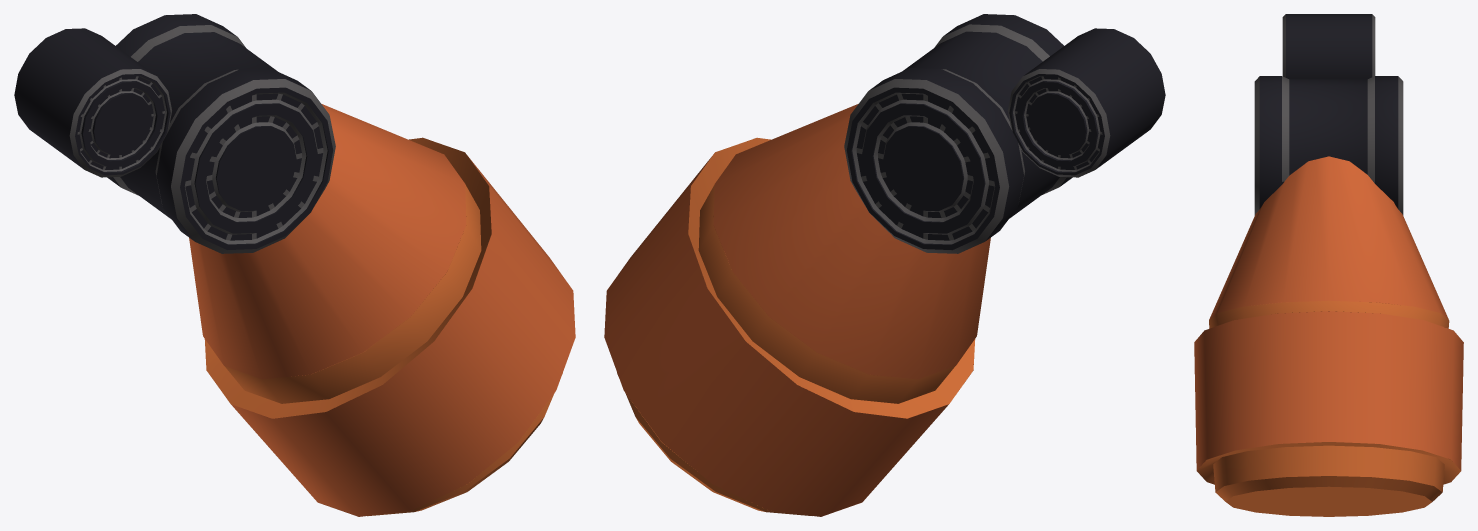
File: l_shoulder.glb
3 renders of one model, left to right at view 1: azimuth 30°, elevation 25°; view 2: azimuth 150°, elevation 25°; view 3: azimuth 270°, elevation 25°, orthographic. The views are drawn at different scales.
Visible parts, largest first — view 1: l_shoulder; view 2: l_shoulder; view 3: l_shoulder.
Part boxes in pixels (x1=…): l_shoulder: x1=14, y1=14, x2=575, y2=516; l_shoulder: x1=604, y1=14, x2=1165, y2=516; l_shoulder: x1=1194, y1=14, x2=1463, y2=516.
Size of the model in its own units: 0.9007 by 0.8733 by 0.5308.
